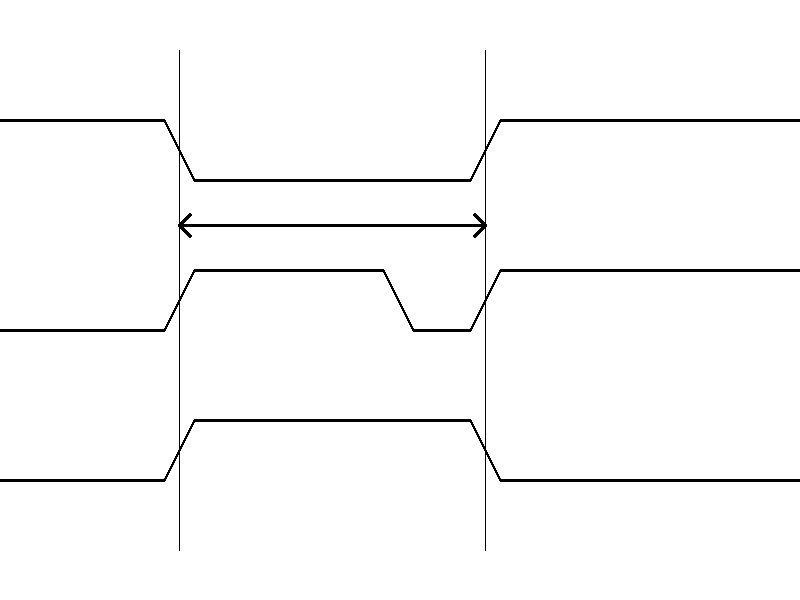double_arrow: (179, 210, 485, 240)
